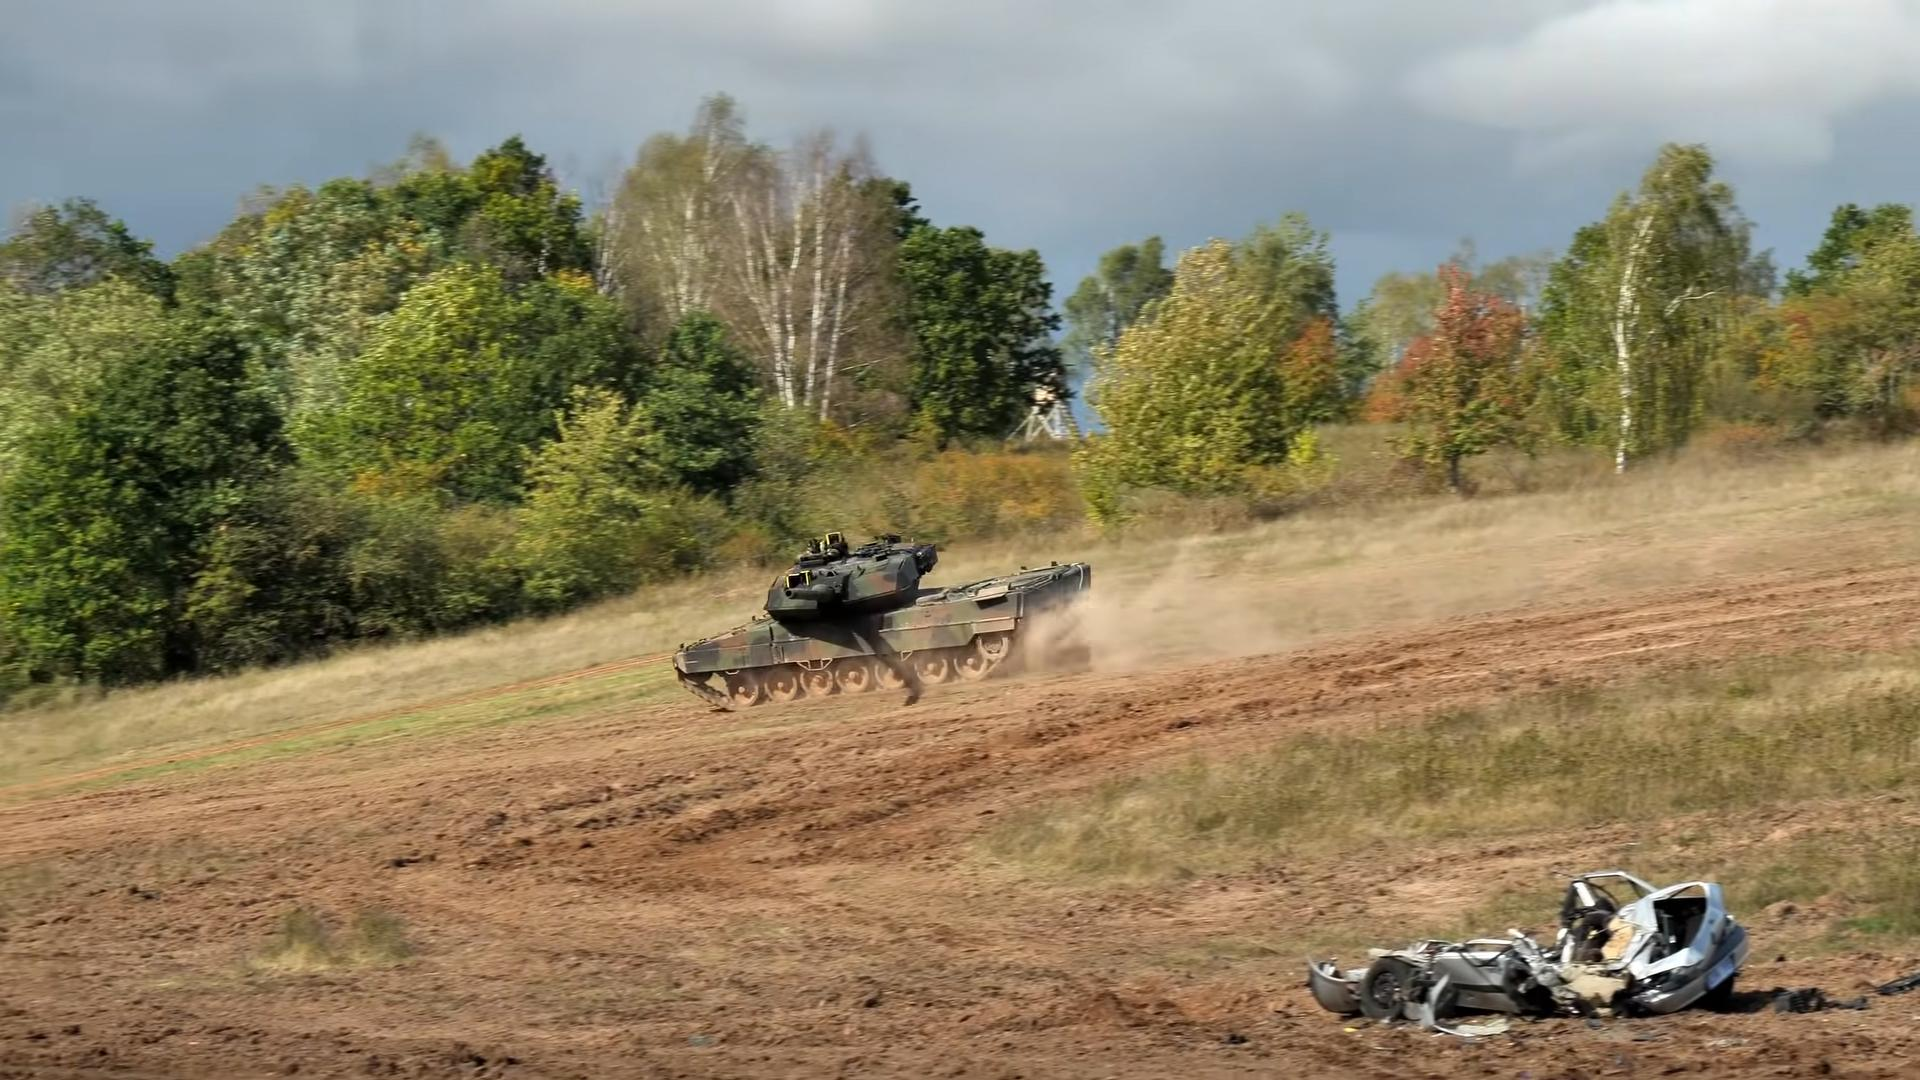tank: (673, 533, 1091, 705)
